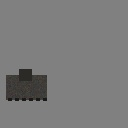armoured_vehicle: (6, 75, 47, 100)
